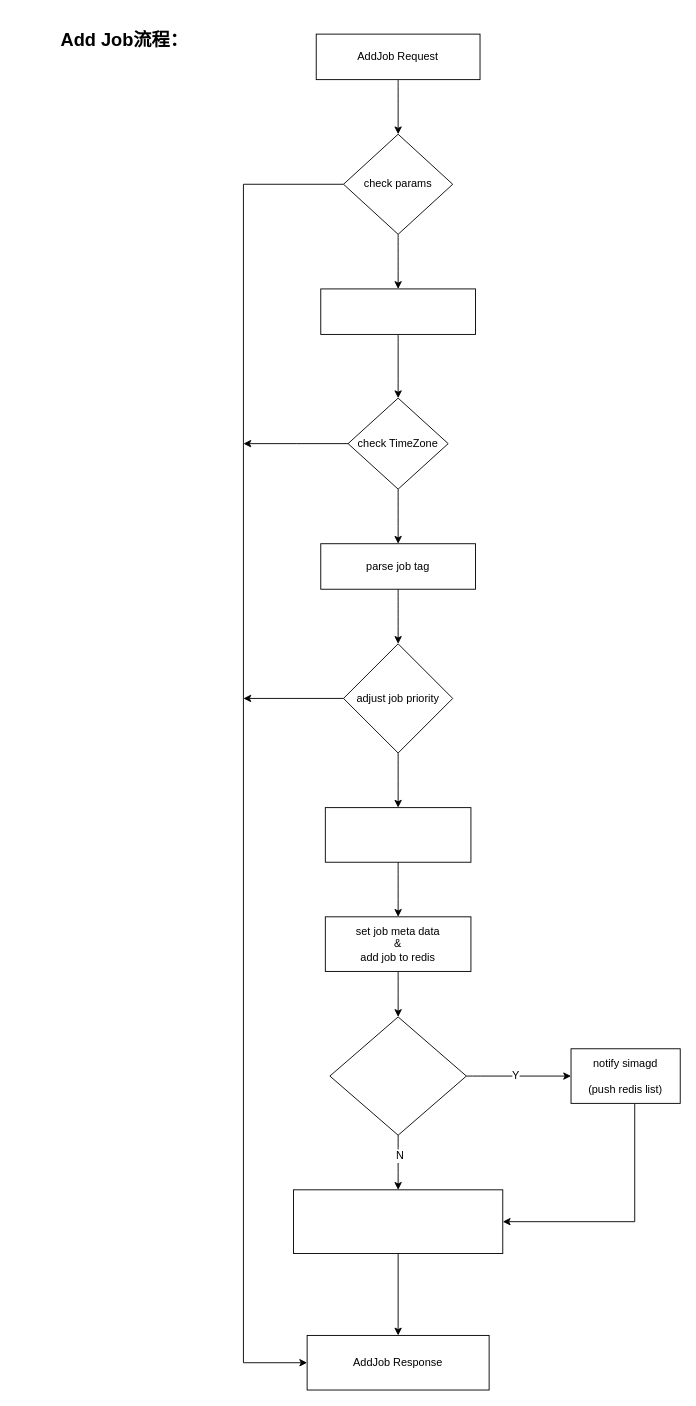
The diagram is 696 pixels wide and 1406 high, and some of its shapes have lost their labels. Each missing label, with the centre of its shape:
"calc partirion key & slot idx (crc32)" goes at pixel 397 834.
"Select StorageType" goes at pixel 397 311.
"trigger time > two minutes" goes at pixel 397 1075.
"update job db status & add partition count map" goes at pixel 398 1221.
